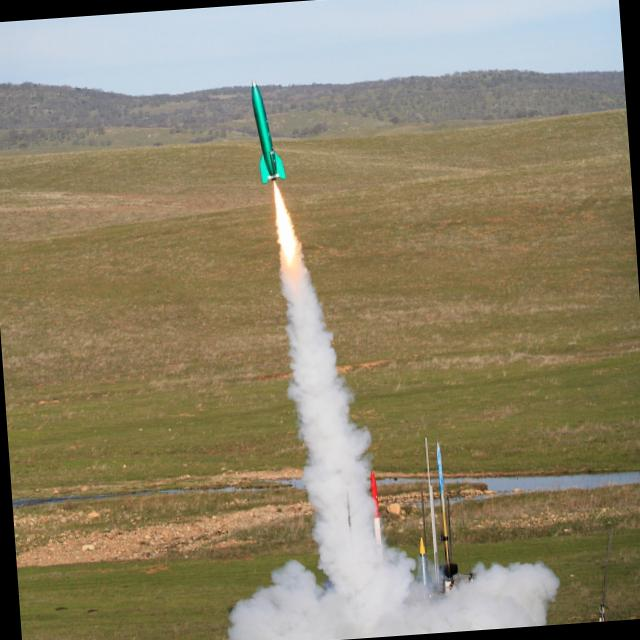rocket: (239, 73, 315, 360)
